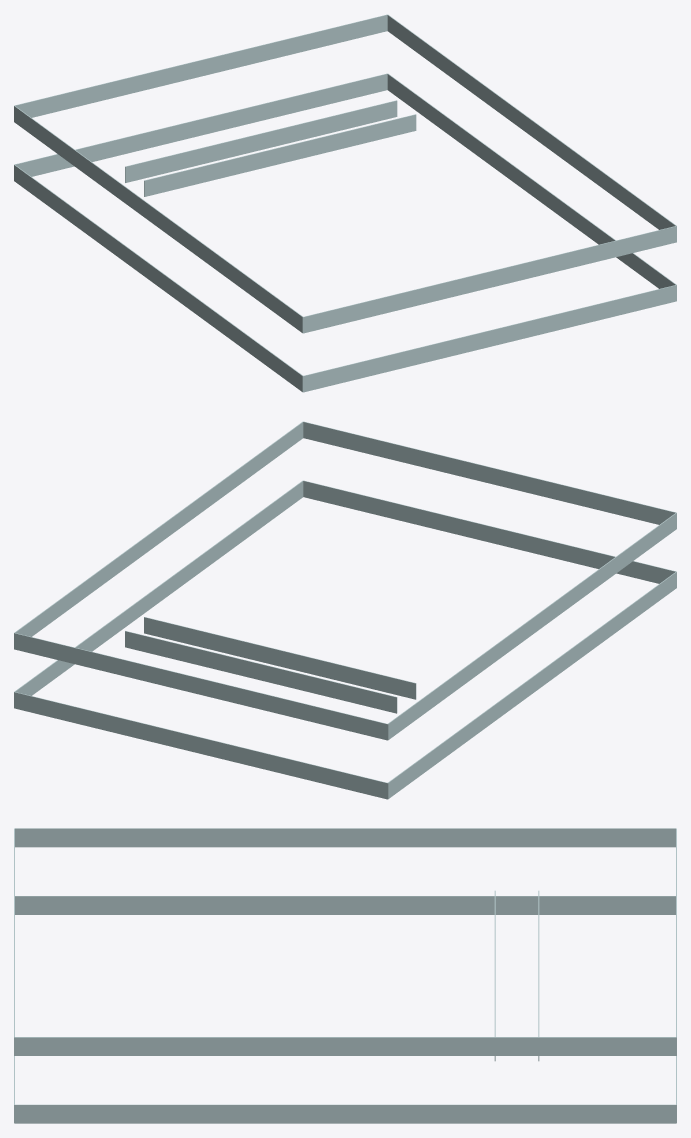
File: SM_Glass_Helgasetr_Overatriet.fbx
3 views of the same model, one above another, from view 1: azimuth 30°, elevation 25°; view 2: azimuth 150°, elevation 25°; view 3: azimuth 270°, elevation 25° (orthographic). The views are drawn at different scales.
Parts seen in each view (by area): view 1: SM_Glass_Helgasetr_Overatriet; view 2: SM_Glass_Helgasetr_Overatriet; view 3: SM_Glass_Helgasetr_Overatriet.
Boxes of the visible parts, <box> form: SM_Glass_Helgasetr_Overatriet: <box>14,14,676,392</box>; SM_Glass_Helgasetr_Overatriet: <box>14,421,676,799</box>; SM_Glass_Helgasetr_Overatriet: <box>14,828,676,1123</box>.
Bounding box in the file's own units: 35.56 × 26.56 × 5.1.
